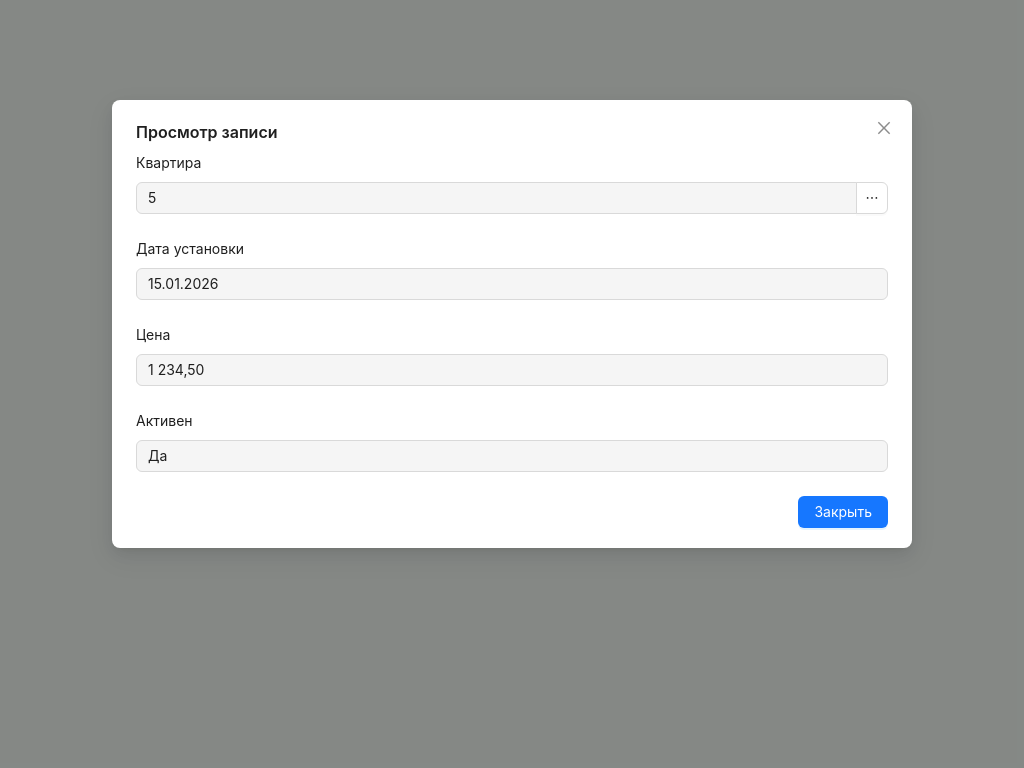
RecordFormModal — режим просмотра › кнопка «…» у ссылочного поля открывает связанную запись
Step 1. Click the 2nd button → (872, 198), box 856,182 -> 888,214
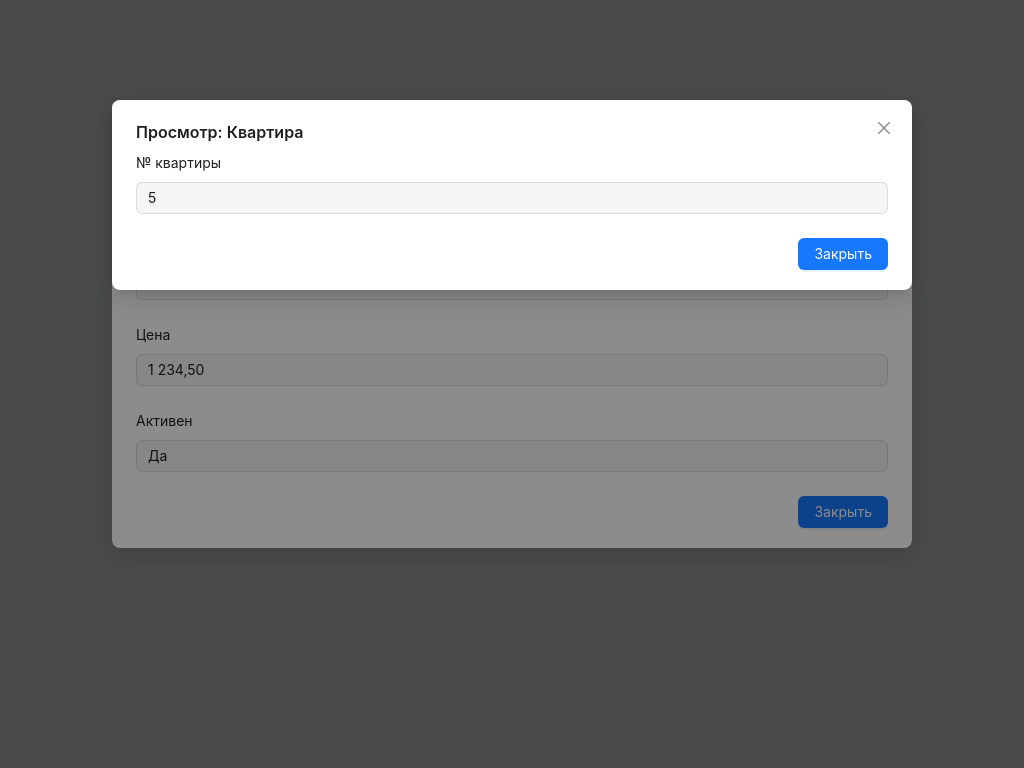
Expected: the text "Просмотр: Квартира" is shown, 136,122 -> 304,142
